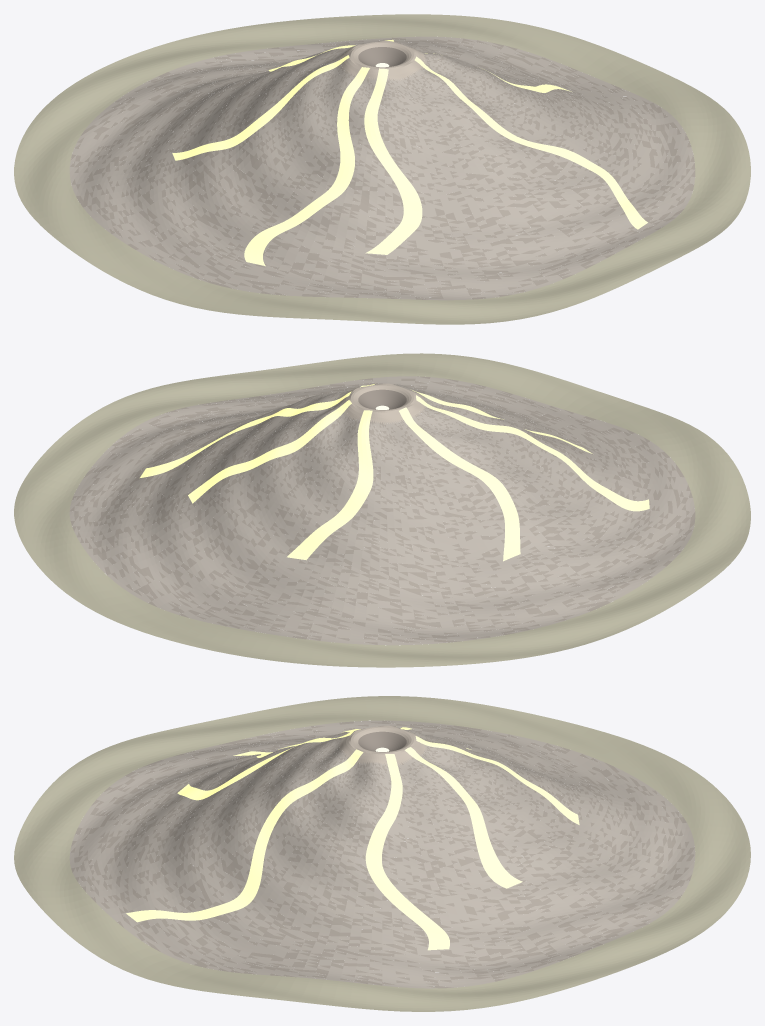
The model's file is javakheti.glb.
3 renders of one model, top to bottom at view 1: azimuth 30°, elevation 25°; view 2: azimuth 150°, elevation 25°; view 3: azimuth 270°, elevation 25°, orthographic.
Visible parts, largest first — view 1: javakheti_cone, javakheti_ground, javakheti_coneDark, javakheti_lava, javakheti_rim, javakheti_crater; view 2: javakheti_cone, javakheti_ground, javakheti_coneDark, javakheti_lava, javakheti_rim, javakheti_crater; view 3: javakheti_cone, javakheti_ground, javakheti_coneDark, javakheti_lava, javakheti_rim, javakheti_crater.
Boxes of the visible parts, box(x1,y1,x2,y2) form: javakheti_cone: box(69, 36, 694, 300); javakheti_ground: box(14, 14, 750, 324); javakheti_coneDark: box(70, 37, 695, 299); javakheti_lava: box(172, 39, 647, 266); javakheti_rim: box(339, 41, 426, 80); javakheti_crater: box(358, 47, 406, 66); javakheti_cone: box(69, 376, 694, 645); javakheti_ground: box(14, 353, 750, 667); javakheti_coneDark: box(70, 376, 695, 644); javakheti_lava: box(140, 384, 649, 561); javakheti_rim: box(338, 383, 425, 424); javakheti_crater: box(358, 389, 406, 409); javakheti_cone: box(69, 720, 695, 988); javakheti_ground: box(14, 696, 750, 1011); javakheti_coneDark: box(70, 720, 694, 988); javakheti_lava: box(126, 727, 579, 950); javakheti_rim: box(338, 725, 426, 766); javakheti_crater: box(358, 731, 406, 751).
Bounding box in the file's own units: 41.4 × 7.52 × 41.4.
